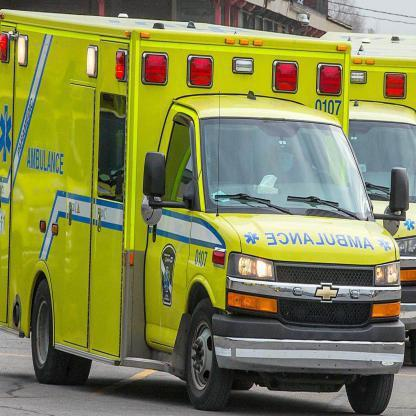Ambulance - v1 Ambulance last generate: (0, 8, 406, 406), (342, 38, 415, 329)
